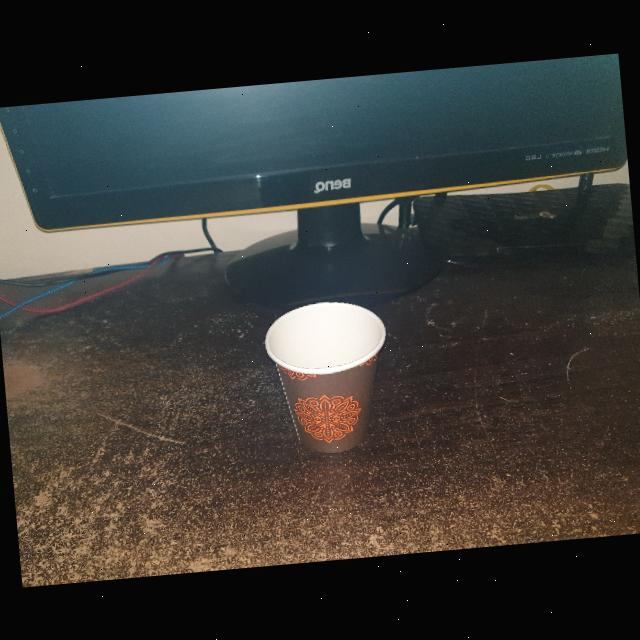trash: (260, 294, 398, 462)
